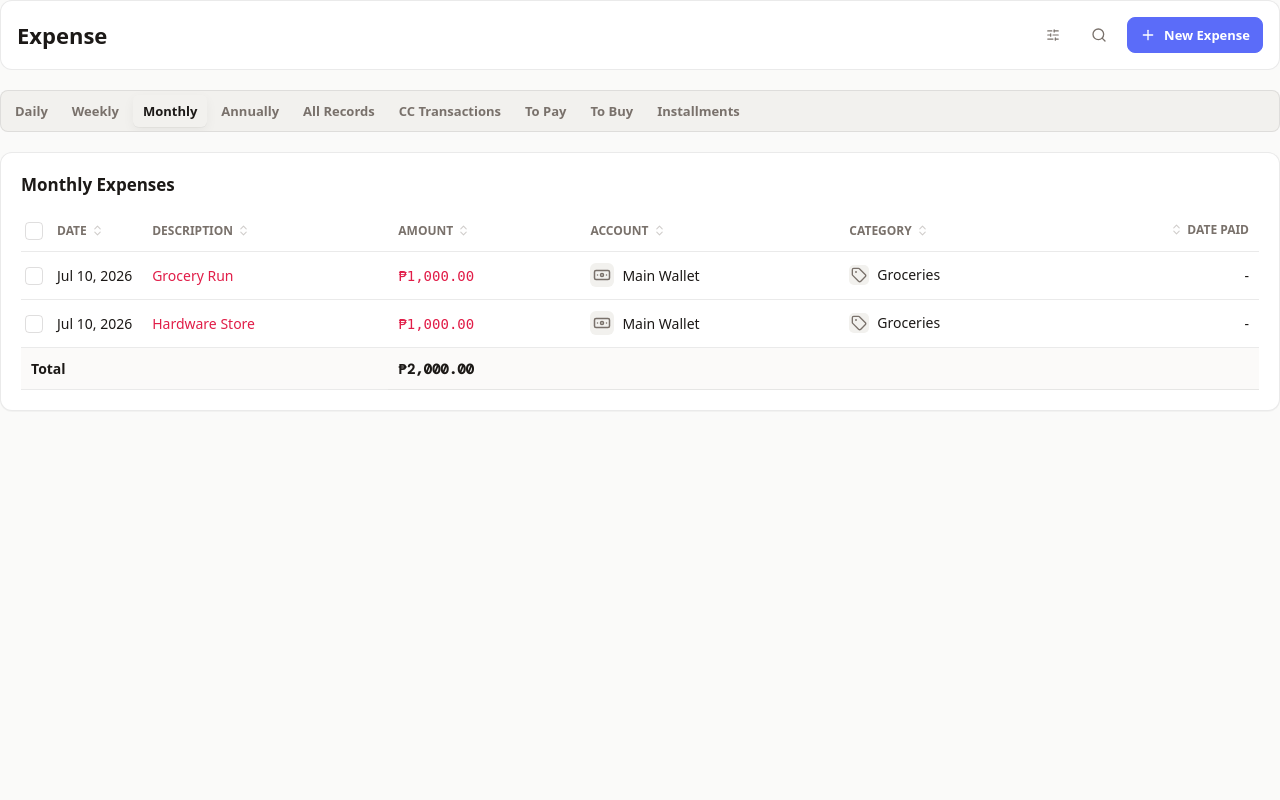
Scenario: Expense mass edit › reports a partial failure when some records fail to update
Click the button named "Select row" in the row of "Grocery Run" at coordinates (34, 276), box x1=25 y1=266 x2=43 y2=284
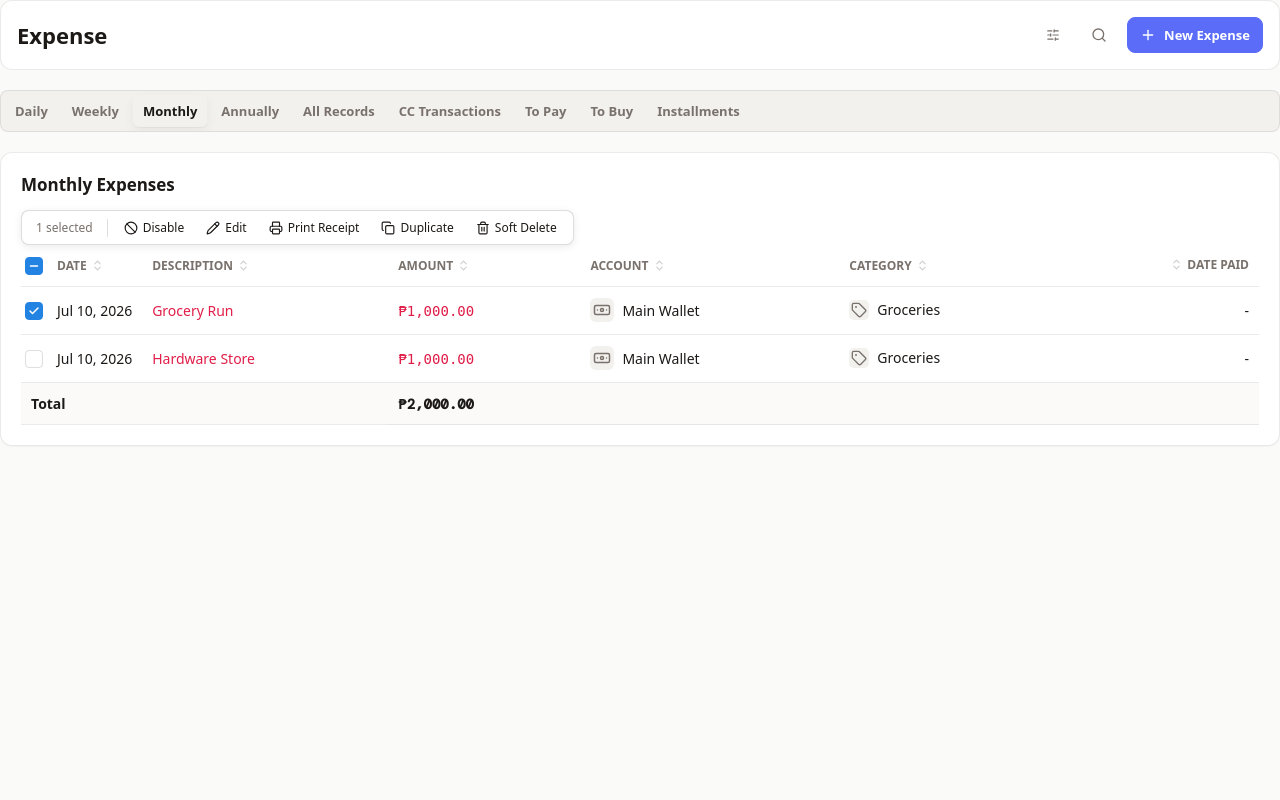
Click the button named "Select row" in the row of "Hardware Store" at coordinates (34, 358), box x1=25 y1=350 x2=43 y2=368
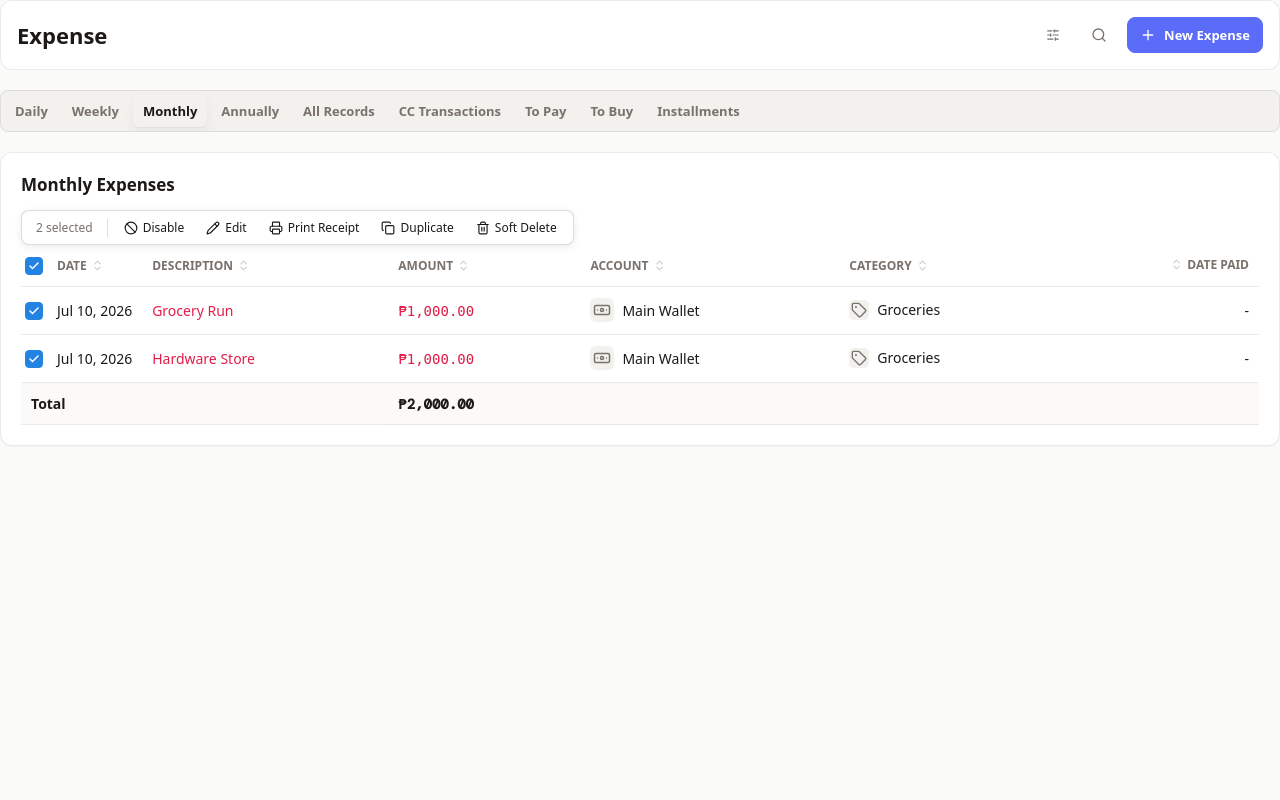
Now the text "2 selected" is shown, box x1=36 y1=219 x2=93 y2=236
Click the button "Edit" at coordinates (226, 228), box x1=196 y1=215 x2=257 y2=240
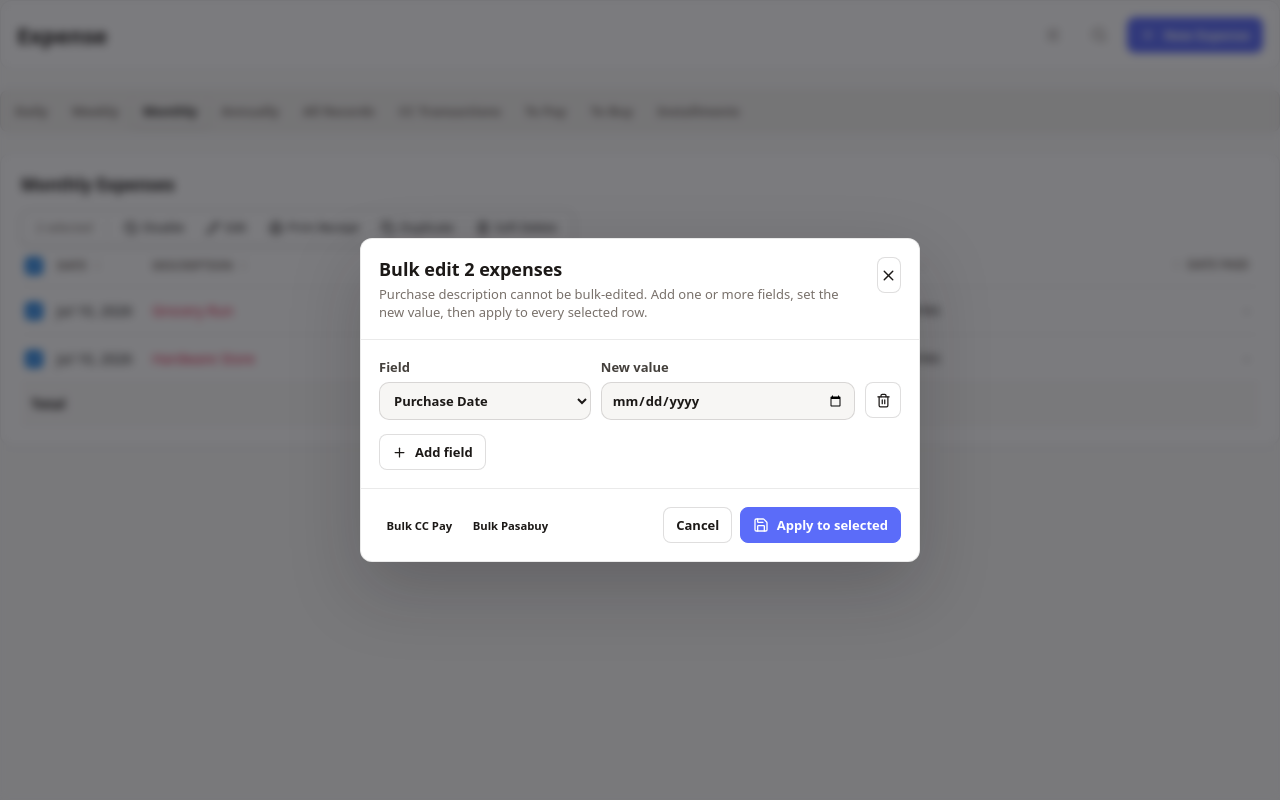
Now the heading "Bulk edit 2 expenses" is shown, box x1=379 y1=257 x2=562 y2=281
Type "2026-08-01" into the date field labelled "New value" at coordinates (728, 401), box x1=601 y1=382 x2=855 y2=420
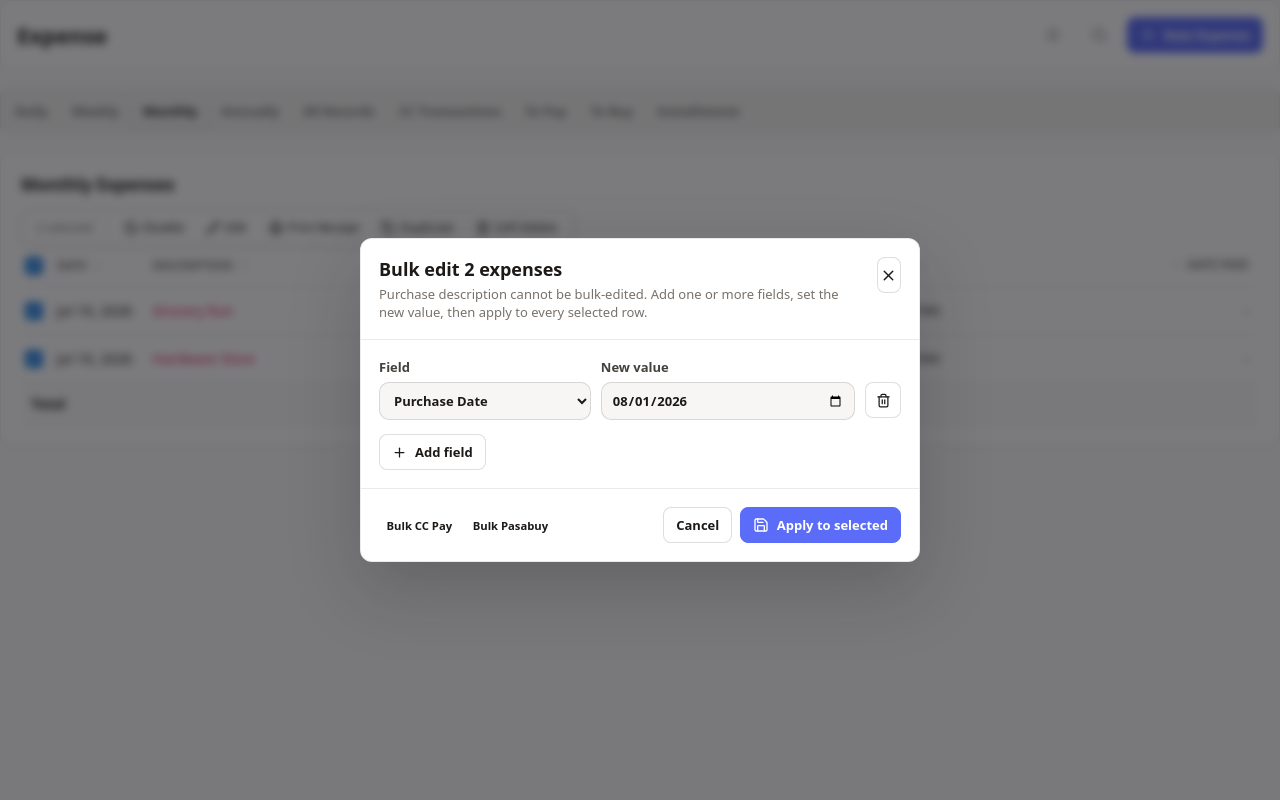
Click the button "Apply to selected" at coordinates (820, 525), box x1=740 y1=507 x2=901 y2=543
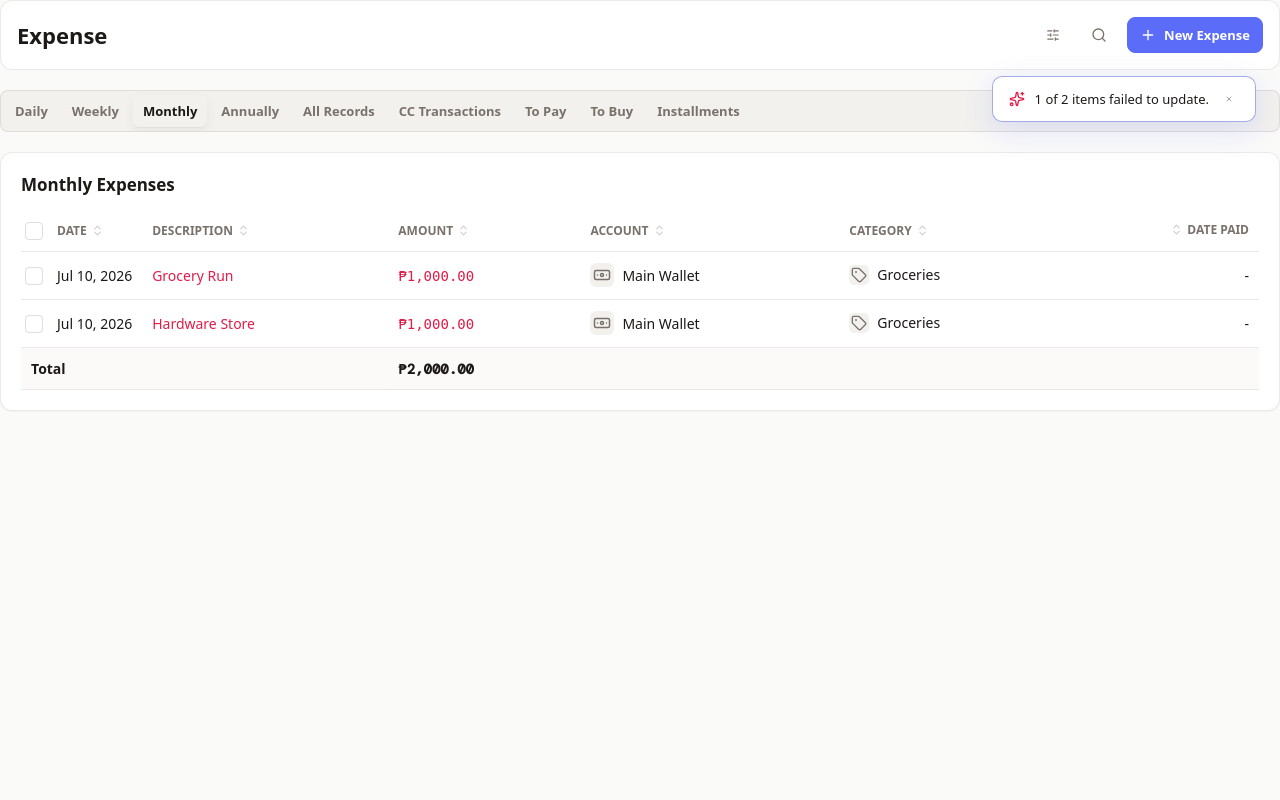
Now the heading "Bulk edit 2 expenses" is gone
Now the text "1 of 2 items failed to update." is shown, box x1=1035 y1=90 x2=1209 y2=108
